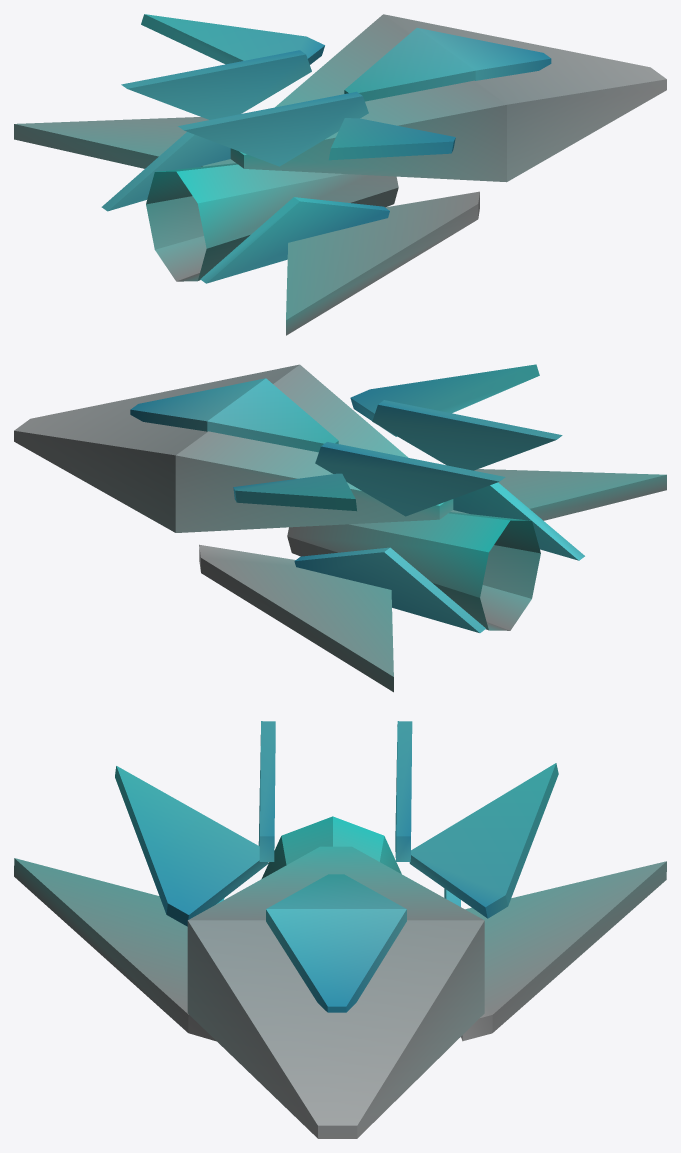
The model's file is player2.fbx.
3 renders of one model, top to bottom at view 1: azimuth 30°, elevation 25°; view 2: azimuth 150°, elevation 25°; view 3: azimuth 270°, elevation 25°, orthographic. The views are drawn at different scales.
Parts seen in each view (by area): view 1: modo2; view 2: modo2; view 3: modo2.
Part boxes in pixels (x1,y1,x2,y2): modo2: (14,14,666,335); modo2: (14,364,666,692); modo2: (14,721,666,1138).
Bounding box in the file's own units: 474 × 165 × 440.
